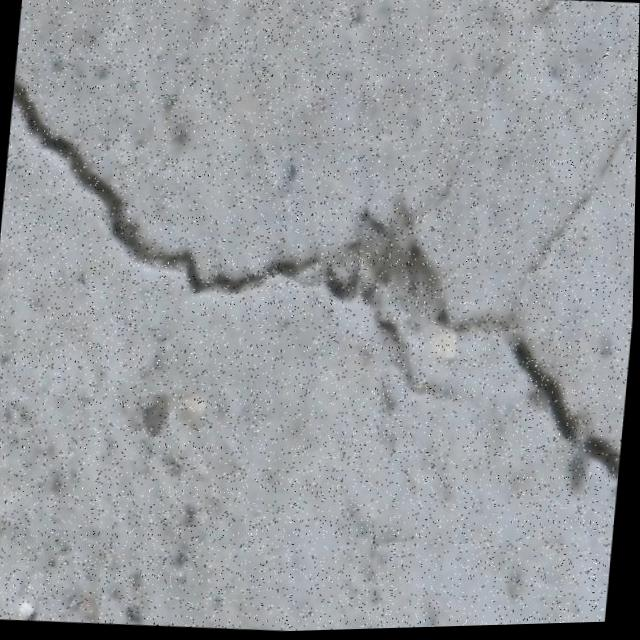Crack: (0, 48, 639, 504)
